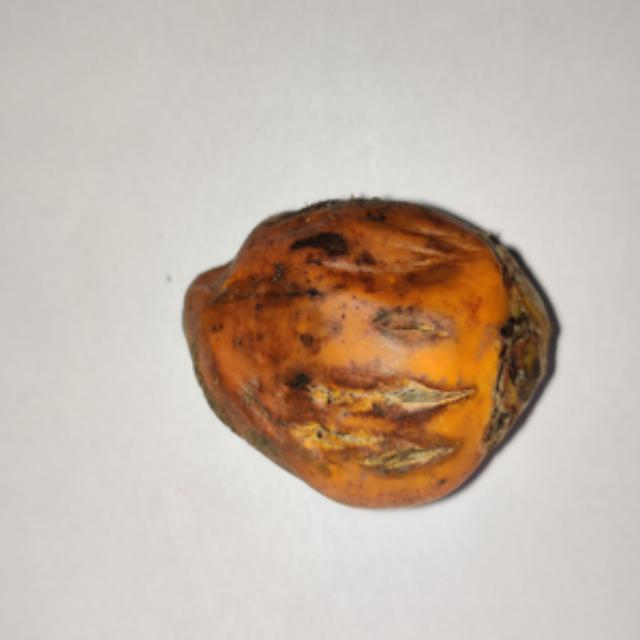damaged: (184, 199, 552, 505)
